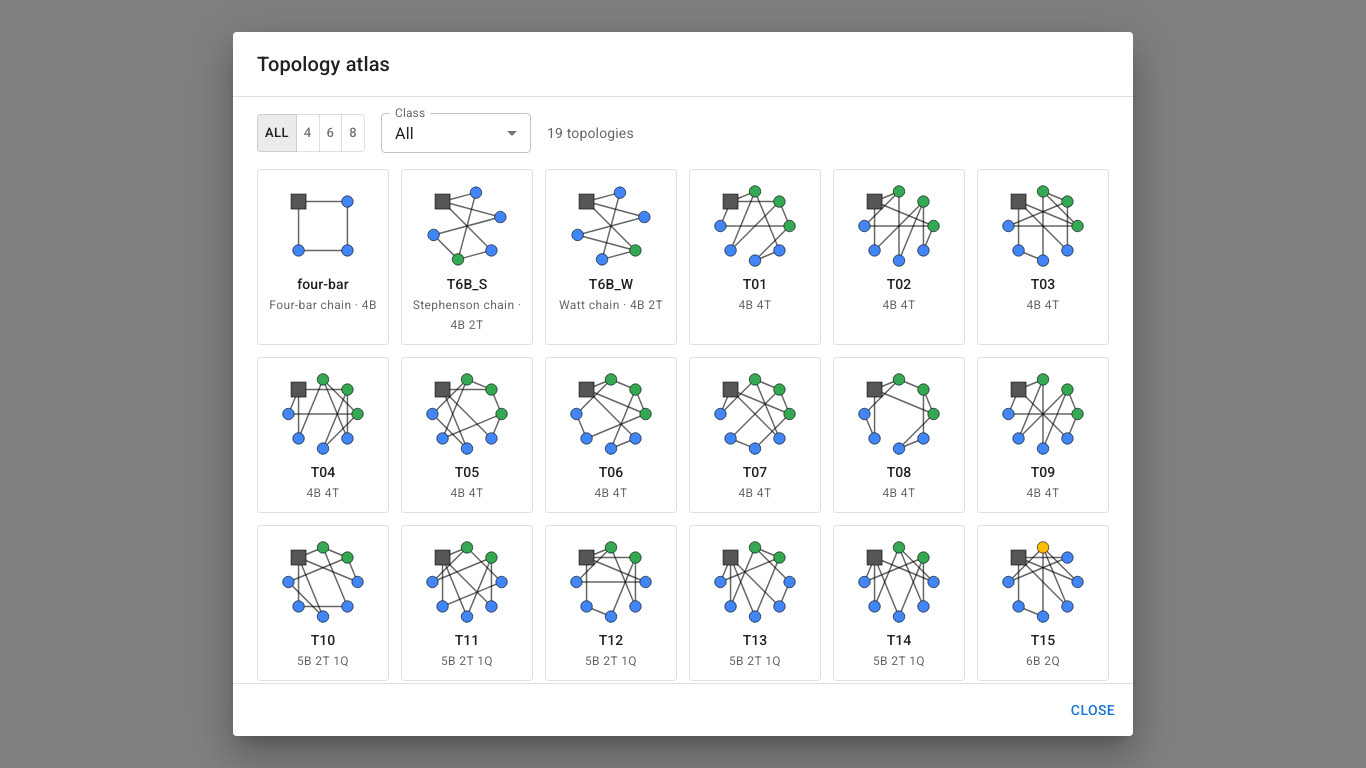
Test: AtlasDialog › Cancel aborts the running layout
Click the button with test id "atlas-card" showing "T6B_S Stephenson chain · 4B 2T": (467,257) [402,170,532,344]
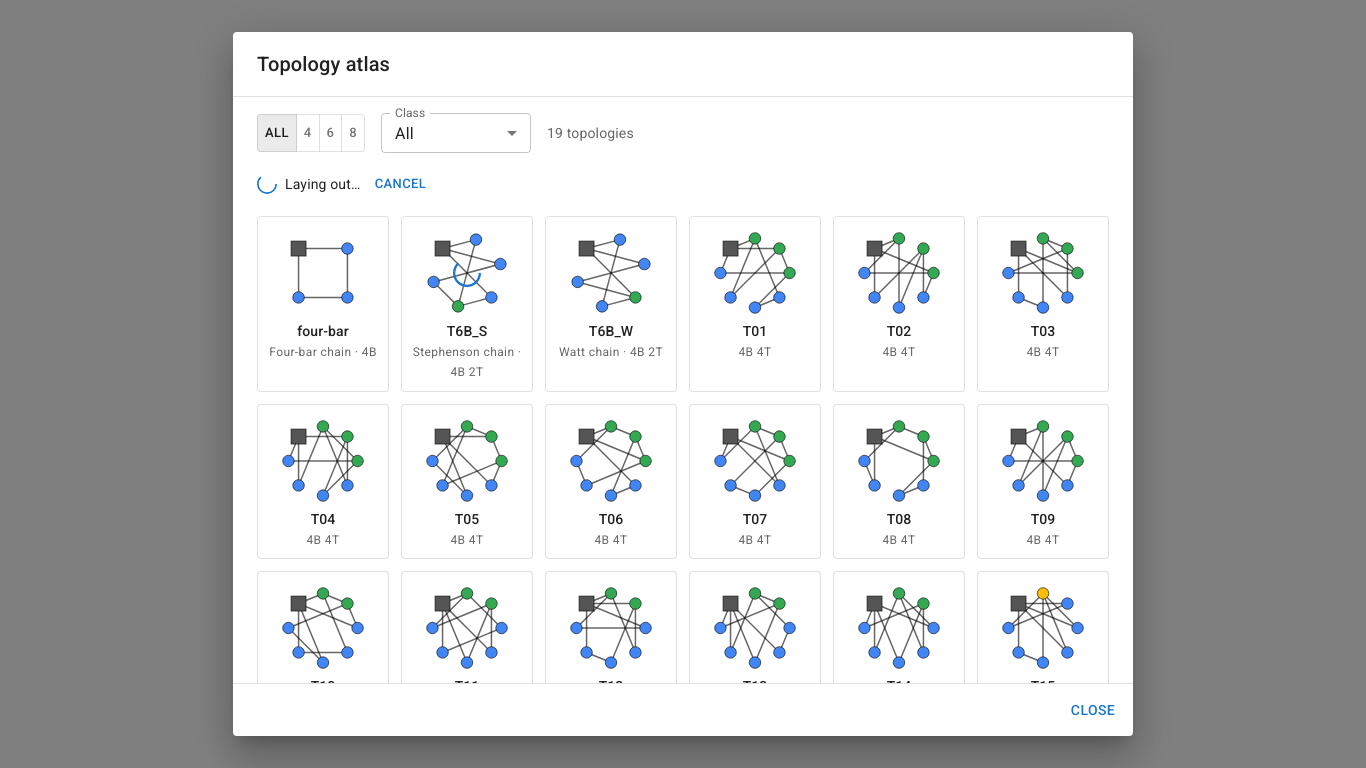
Check: the element with test id "atlas-progress" is shown, box [257,169,432,200]
Click the button with test id "atlas-cancel-layout": (400,184) [368,169,432,200]
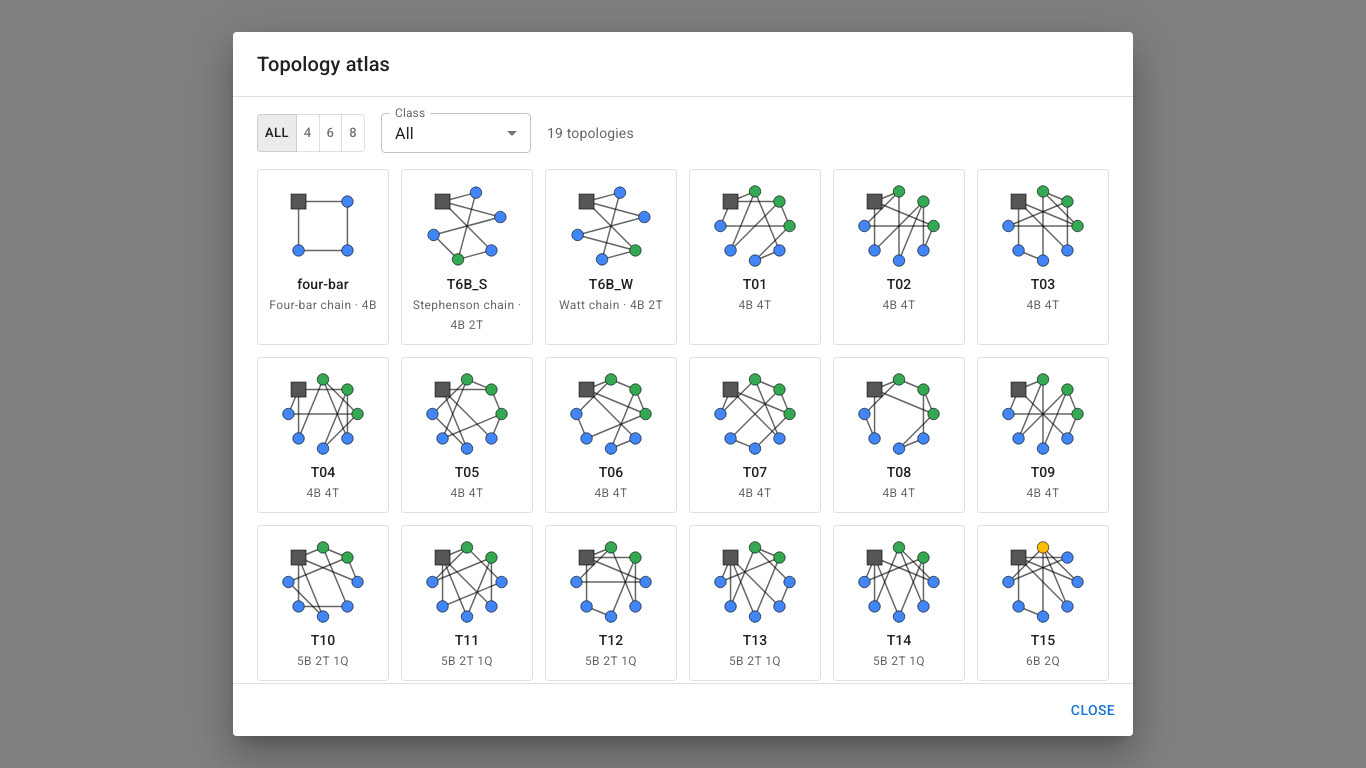
Check: the element with test id "atlas-progress" is gone
